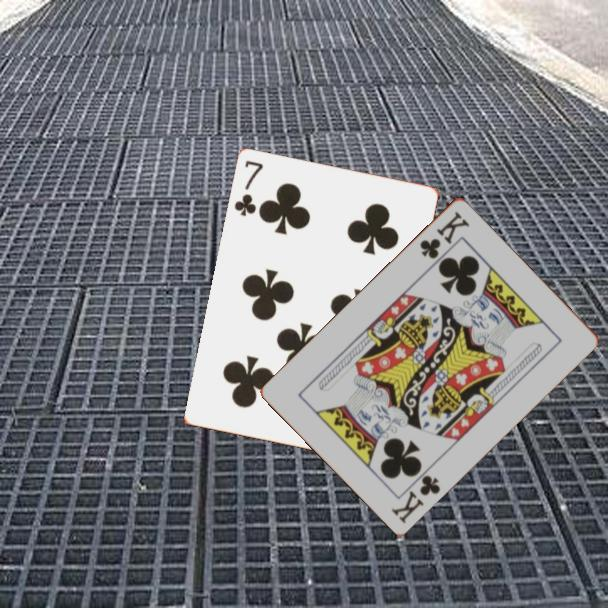c07: (231, 157, 266, 219)
c13: (387, 471, 443, 526), (416, 207, 472, 261)
